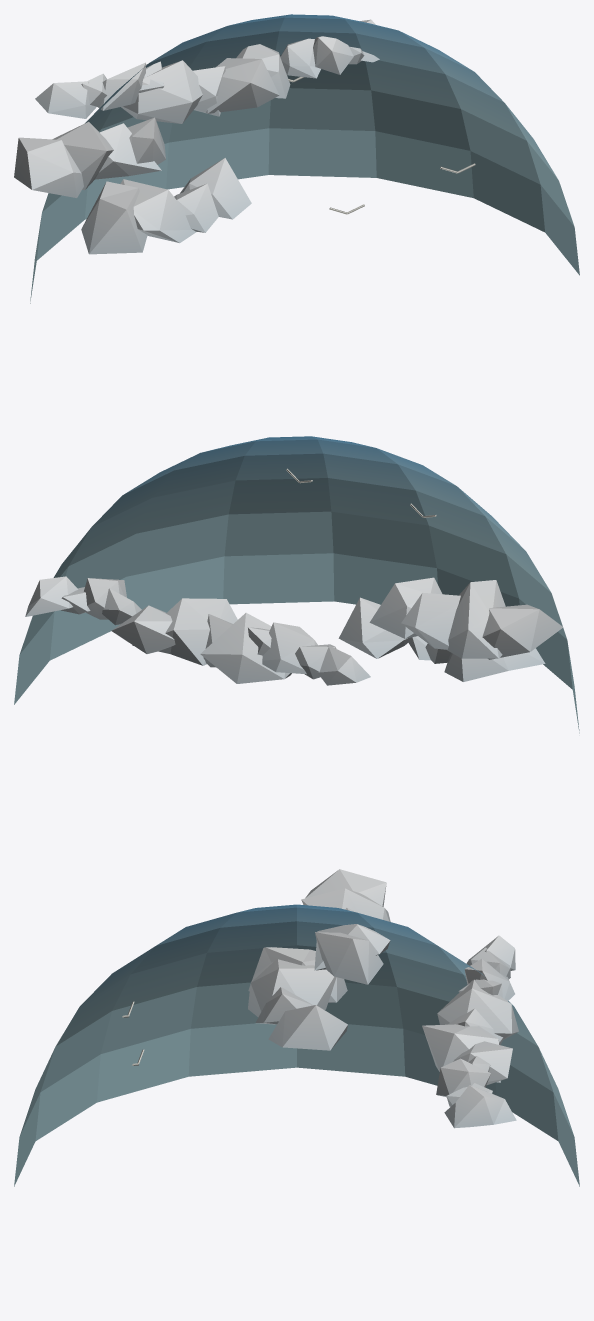
Rendered from sky-day-dome.glb.
The picture shows the model from 3 angles, top to bottom: view 1: azimuth 30°, elevation 25°; view 2: azimuth 150°, elevation 25°; view 3: azimuth 270°, elevation 25°; orthographic projection. The views are drawn at different scales.
Visible parts, largest first — view 1: sky_day_dome; view 2: sky_day_dome; view 3: sky_day_dome.
Part boxes in pixels (left/top/right/bottom): sky_day_dome: left=14, top=14, right=579, bottom=303; sky_day_dome: left=14, top=436, right=579, bottom=733; sky_day_dome: left=14, top=869, right=579, bottom=1186.
Bounding box in the file's own units: 5.48 × 2.6 × 5.2.
